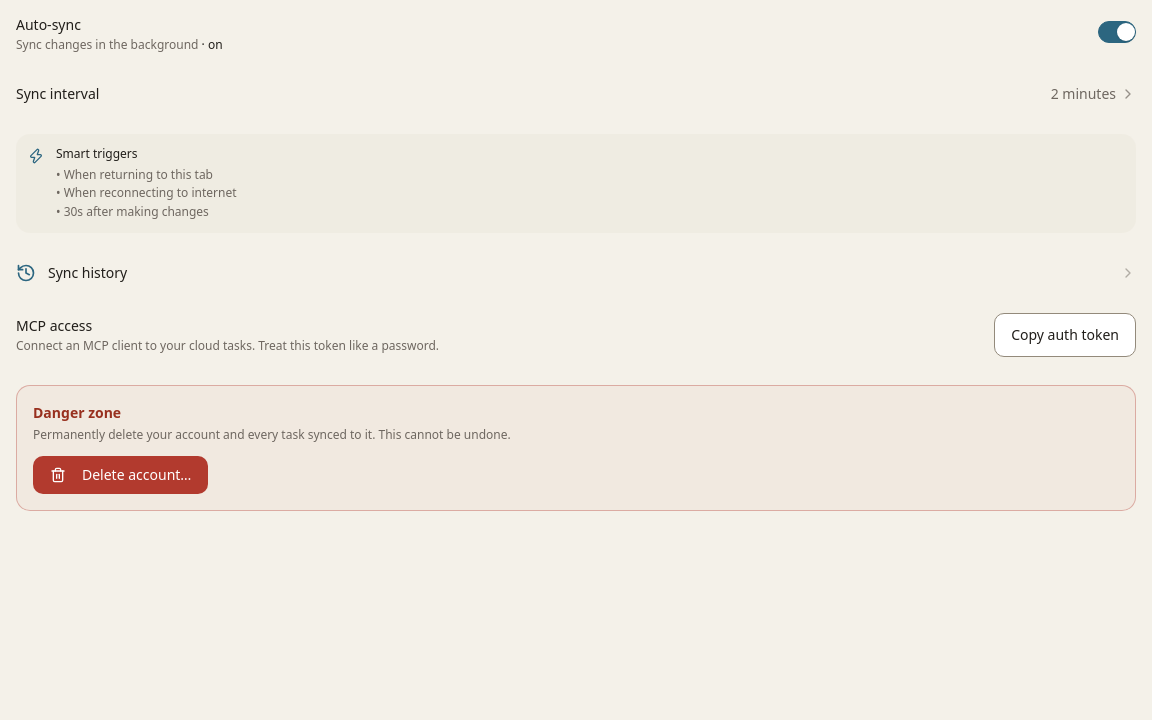
Test: SyncSettings danger zone › opens_delete_account_dialog_from_danger_zone
Click the button "Delete account…" at [121, 475], box [33,456,208,494]
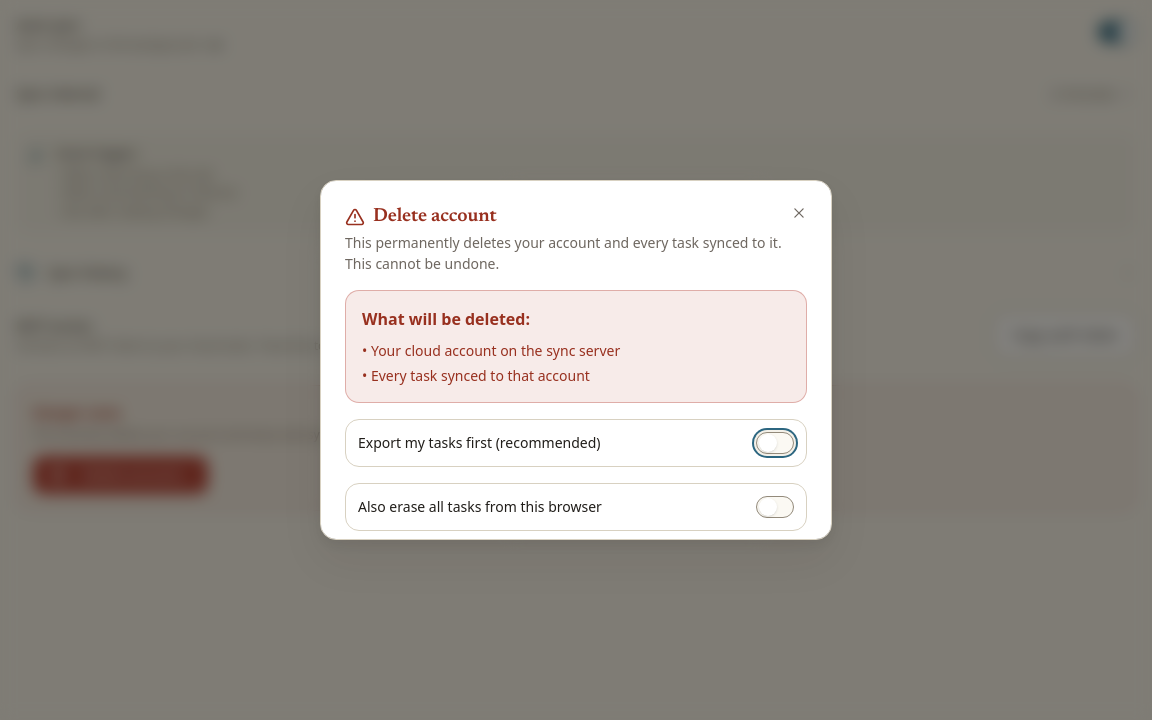
Expected: the heading "Delete account" is shown, [345,207,496,227]
